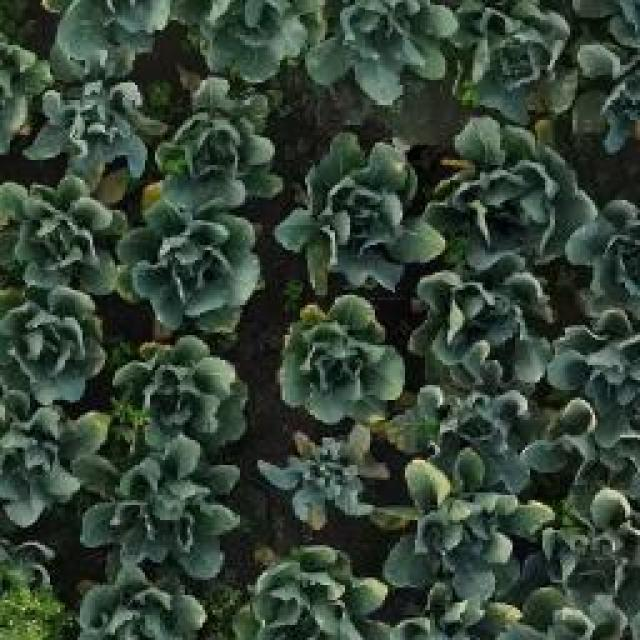cabbage: (277, 130, 435, 288), (438, 116, 594, 266), (117, 184, 260, 333), (88, 437, 236, 580), (384, 461, 538, 594), (414, 264, 556, 394), (391, 370, 547, 487), (273, 296, 409, 424), (231, 540, 388, 640), (538, 446, 640, 599), (109, 338, 249, 448), (154, 80, 284, 198), (0, 178, 121, 304), (308, 0, 454, 103), (27, 71, 157, 184), (0, 395, 107, 526), (452, 0, 572, 116), (260, 422, 390, 526), (551, 301, 640, 446), (0, 289, 108, 403), (178, 0, 312, 85), (73, 562, 213, 640)
